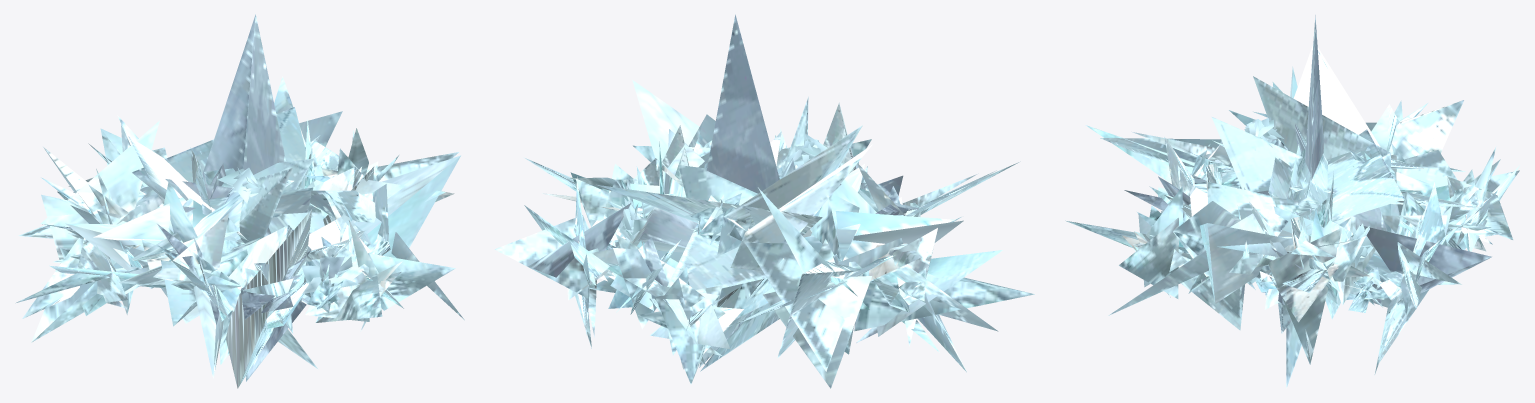
Rendered from kristallon.glb.
3 renders of one model, left to right at view 1: azimuth 30°, elevation 25°; view 2: azimuth 150°, elevation 25°; view 3: azimuth 270°, elevation 25°, orthographic. The views are drawn at different scales.
Parts seen in each view (by area): view 1: kristallon-uber; view 2: kristallon-uber; view 3: kristallon-uber.
Boxes of the visible parts, bbox=[...] form: kristallon-uber: bbox=[15, 14, 464, 388]; kristallon-uber: bbox=[495, 14, 1034, 388]; kristallon-uber: bbox=[1065, 15, 1519, 388].
Bounding box in the file's own units: 337 × 249 × 292.
Materials: 1 (1 with a texture image).
